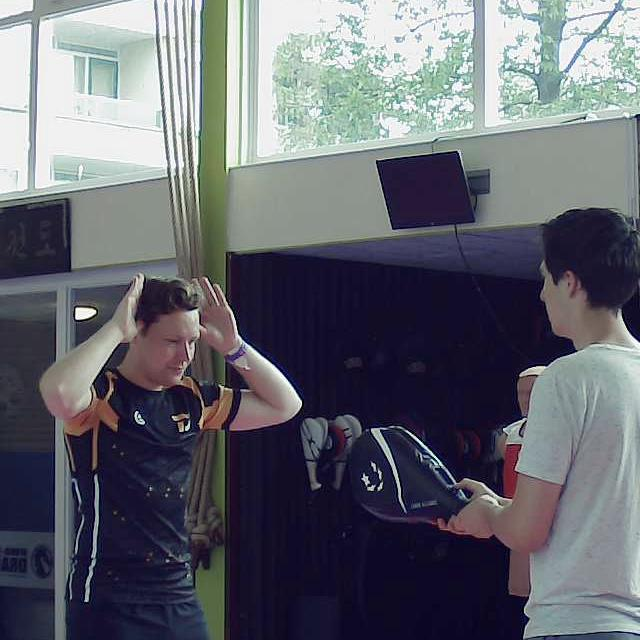paddle: (346, 422, 472, 525)
